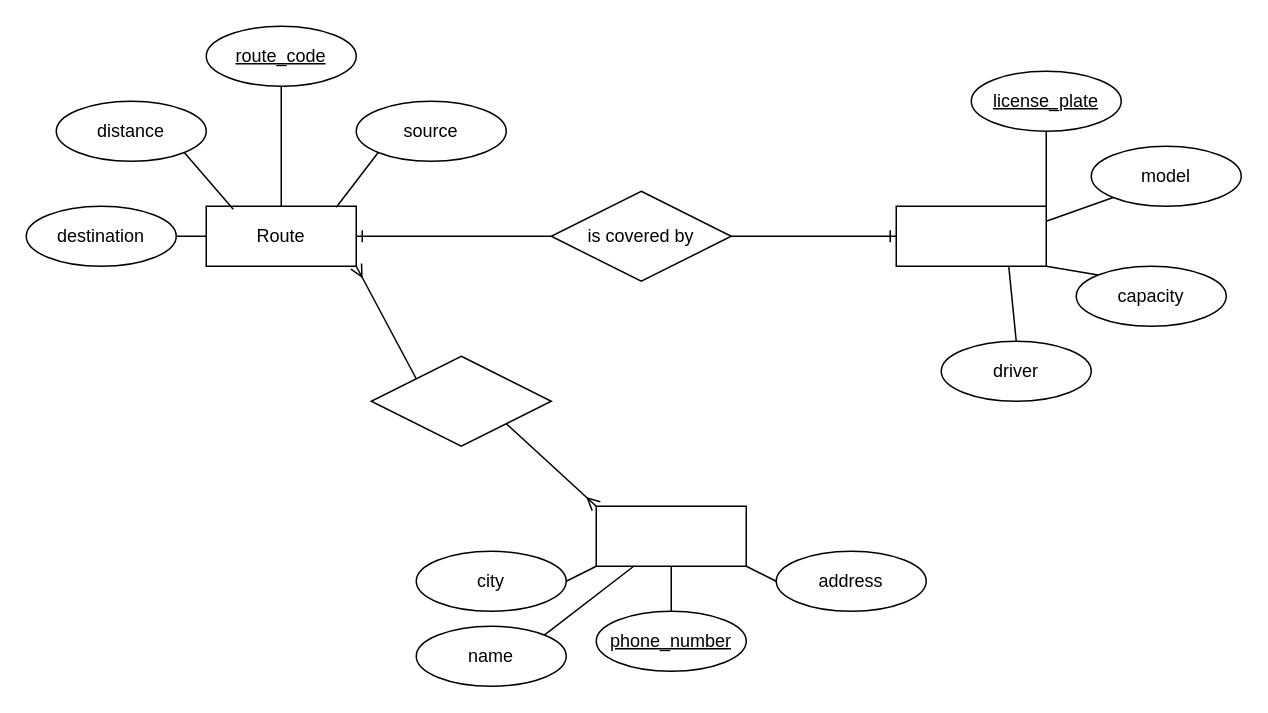
This 1268x713 diagram has some shape labels left out. The centre of each missing label's shape, as x and y in pixels:
Bus: the point at 970,235
Bus Station: the point at 670,535
is part of: the point at 460,400
